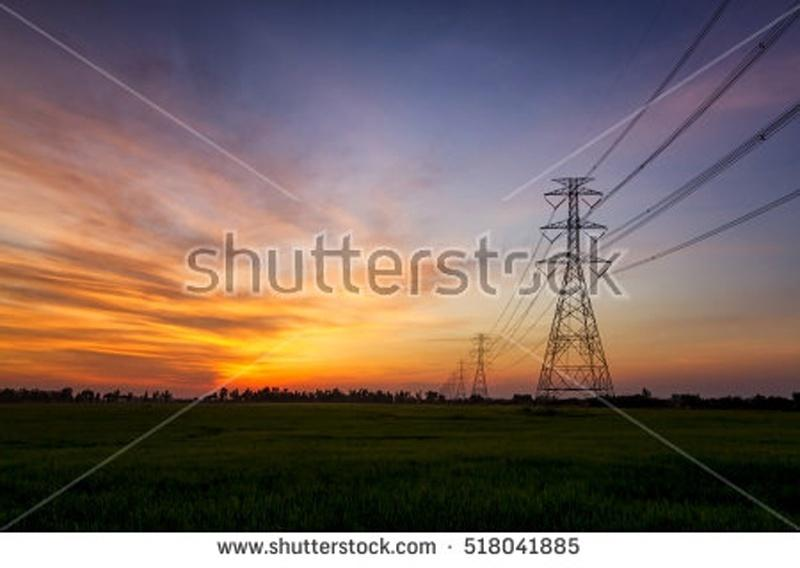power_tower: (541, 161, 629, 394)
